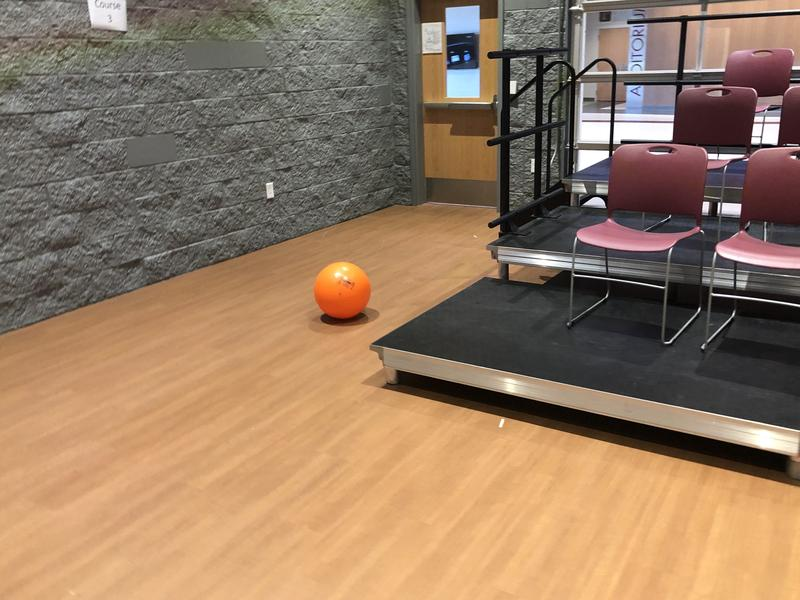ball: (317, 261, 370, 319)
